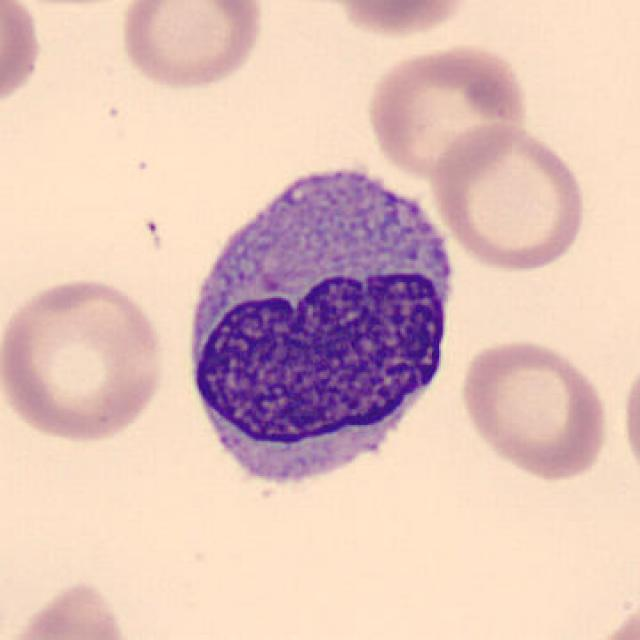Monocyte: (170, 146, 466, 509)
RBC: (0, 271, 171, 448), (426, 120, 588, 275), (362, 38, 532, 182), (454, 335, 614, 483), (115, 0, 266, 93), (2, 575, 142, 640), (318, 0, 480, 41), (0, 0, 46, 116), (617, 349, 640, 492), (583, 596, 638, 640)
